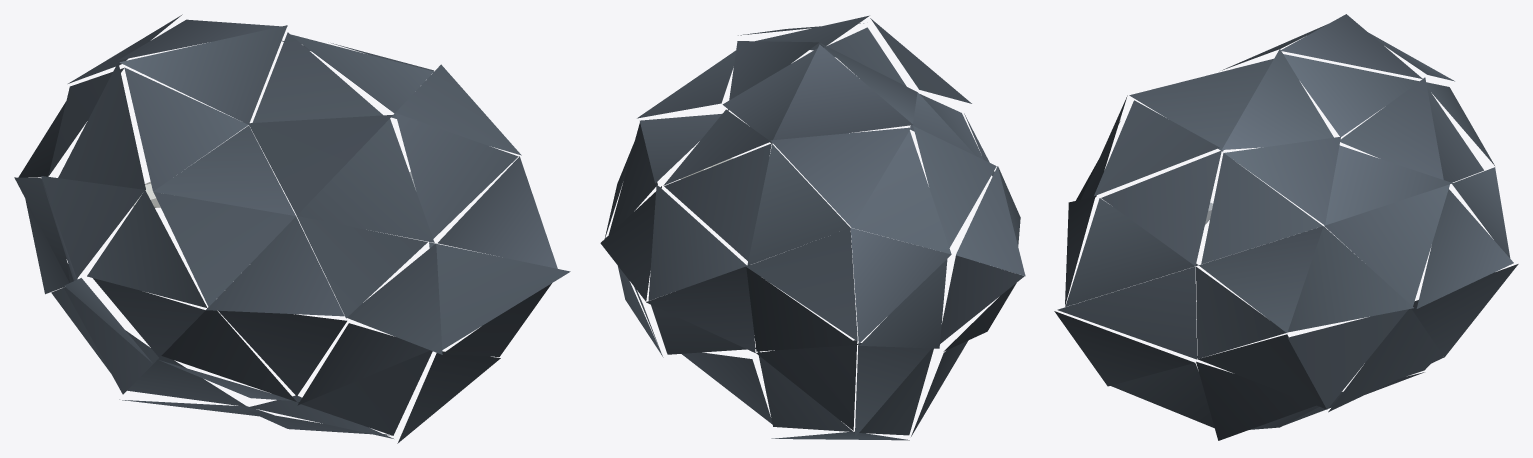
The model's file is mature-lod2.glb.
The picture shows the model from 3 angles, left to right: view 1: azimuth 30°, elevation 25°; view 2: azimuth 150°, elevation 25°; view 3: azimuth 270°, elevation 25°; orthographic projection. The views are drawn at different scales.
Visible parts, largest first — view 1: tin-host-rock; view 2: tin-host-rock; view 3: tin-host-rock.
Part boxes in pixels (x1,y1,x2,y2): tin-host-rock: [14, 14, 570, 443]; tin-host-rock: [600, 15, 1025, 440]; tin-host-rock: [1054, 14, 1518, 440].
Size of the model in its own units: 3.26 by 2.88 by 3.2.
